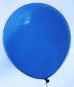Balloon: (3, 3, 71, 78)
